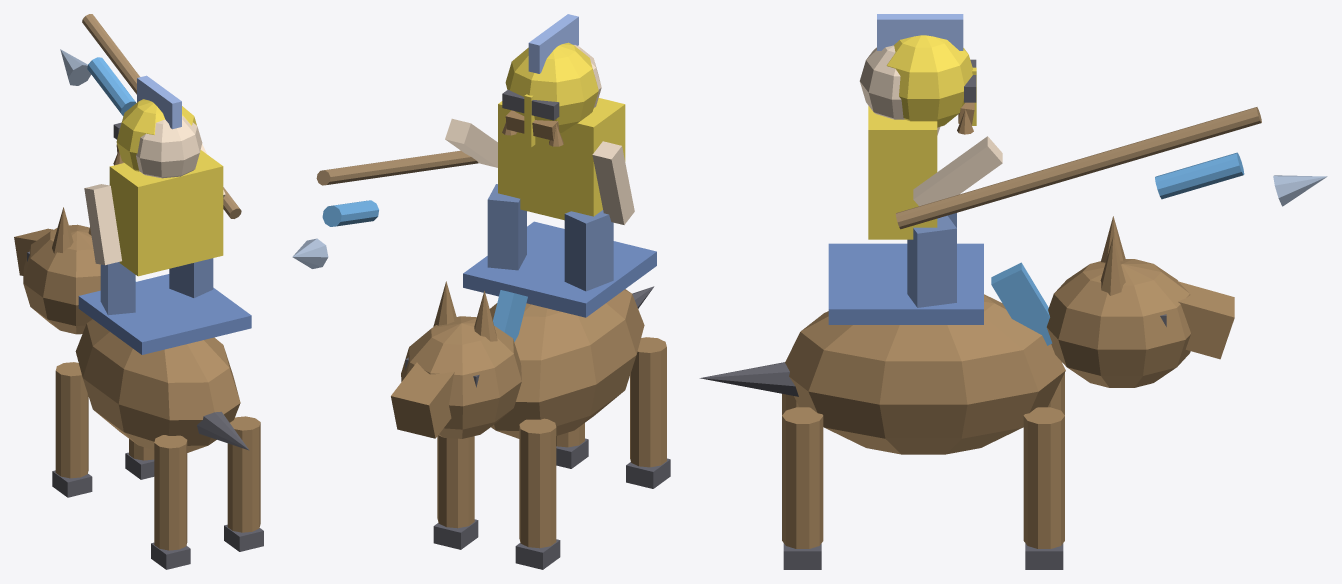
File: prince.glb
3 views of the same model, side by side, from view 1: azimuth 30°, elevation 25°; view 2: azimuth 150°, elevation 25°; view 3: azimuth 270°, elevation 25° (orthographic). The views are drawn at different scales.
Visible parts, largest first — view 1: prince; view 2: prince; view 3: prince.
Boxes of the visible parts, x1,y1,x2,y2 form: prince: [14, 14, 263, 569]; prince: [292, 14, 670, 569]; prince: [699, 14, 1327, 569].
Size of the model in its own units: 1.17 by 3.35 by 3.64.
